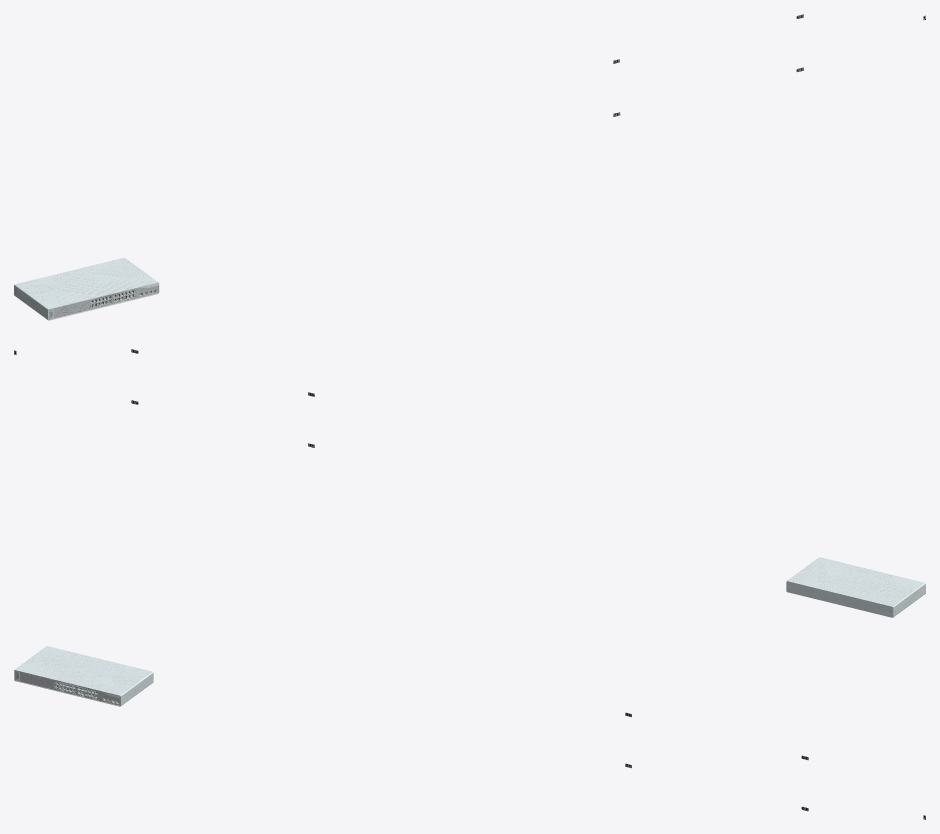
3 renders of one model, top to bottom at view 1: azimuth 30°, elevation 25°; view 2: azimuth 150°, elevation 25°; view 3: azimuth 330°, elevation 25°, orthographic. The views are drawn at different scales.
Parts seen in each view (by area): view 1: SketchUp, SketchUp.066; view 2: SketchUp; view 3: SketchUp, SketchUp.066.
Boxes of the visible parts, box(x1,y1,x2,y2) form: SketchUp: box(14, 257, 159, 320); SketchUp.066: box(53, 285, 158, 318); SketchUp: box(786, 557, 925, 617); SketchUp: box(14, 646, 153, 706); SketchUp.066: box(19, 672, 120, 705).
Bounding box in the file's own units: 17.01 × 1.56 × 1.14.
65 materials, 45 textured.
